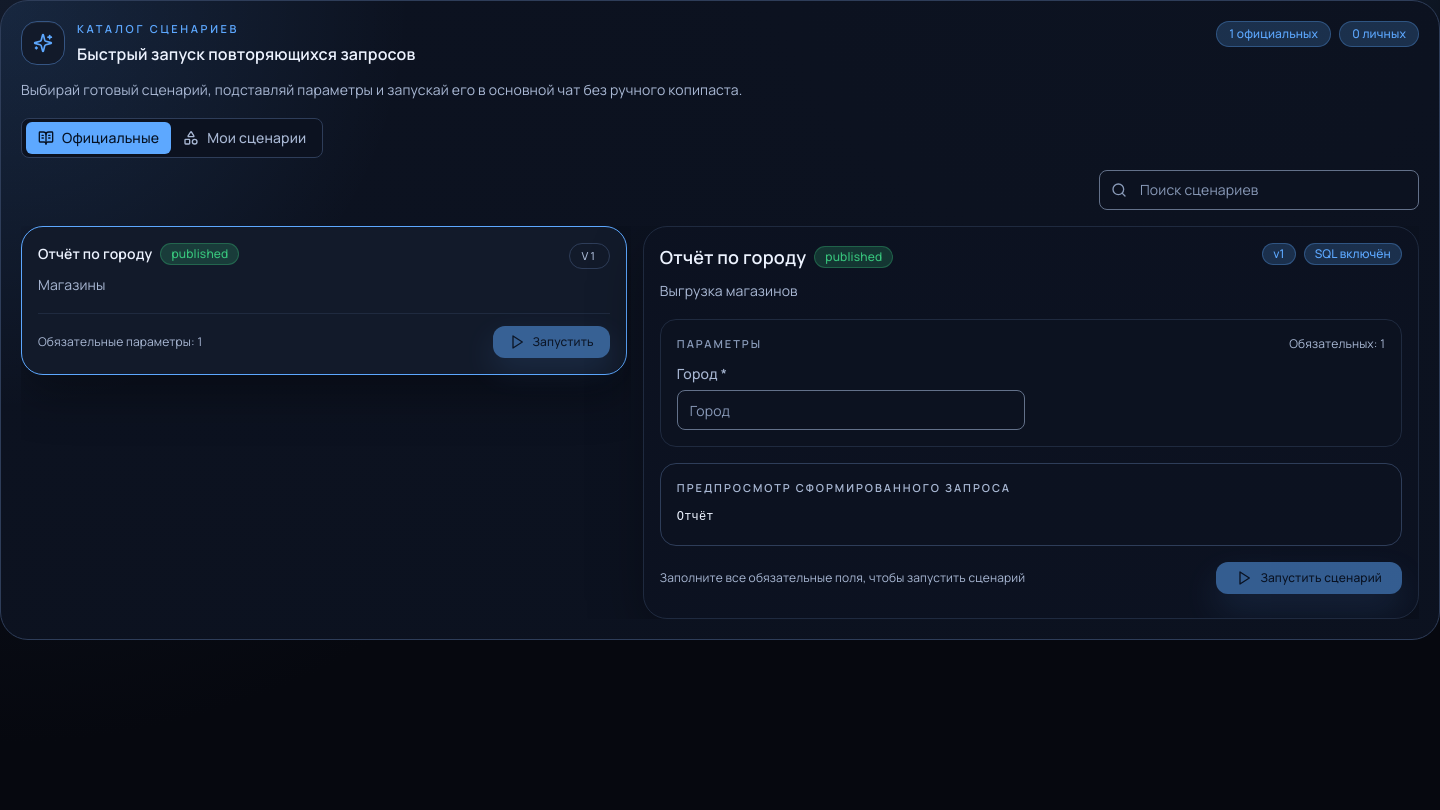
Test: scenario catalog launch flow › keeps legacy parameters and their validation in the catalog
Expected: the button "Запустить сценарий" is disabled, [1216,562,1402,594]
Type "Москва" into the field labelled "Город *".
click(851, 410); type("Москва")  # box [677,390,1025,430]
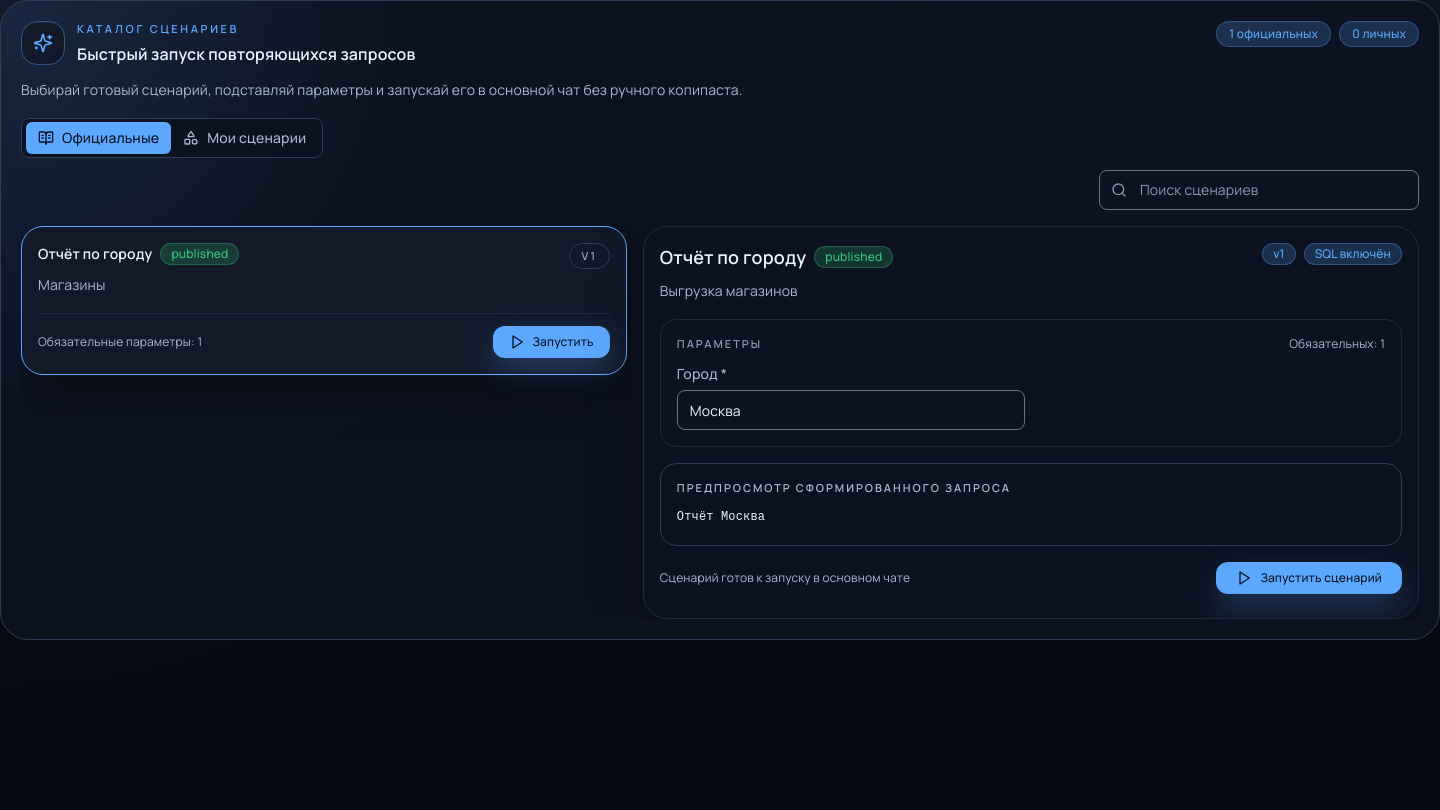
Expected: the button "Запустить сценарий" is enabled, [1216,562,1402,594]
Expected: the text "Отчёт Москва" is shown, [677,510,765,524]
